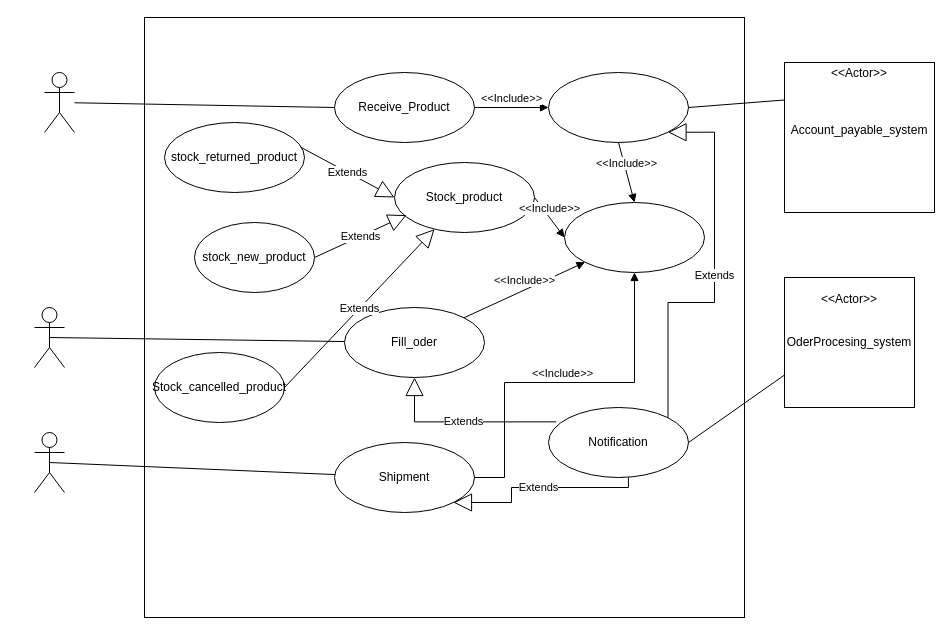
This 952x635 diagram has some shape labels left out. The centre of each missing label's shape, as x and y in pixels:
purchessOrders: the point at 618,107
Recieving_clerk: the point at 59,102
Shippers: the point at 49,462
stock_clerk: the point at 49,337
UpdateInventory: the point at 634,237
